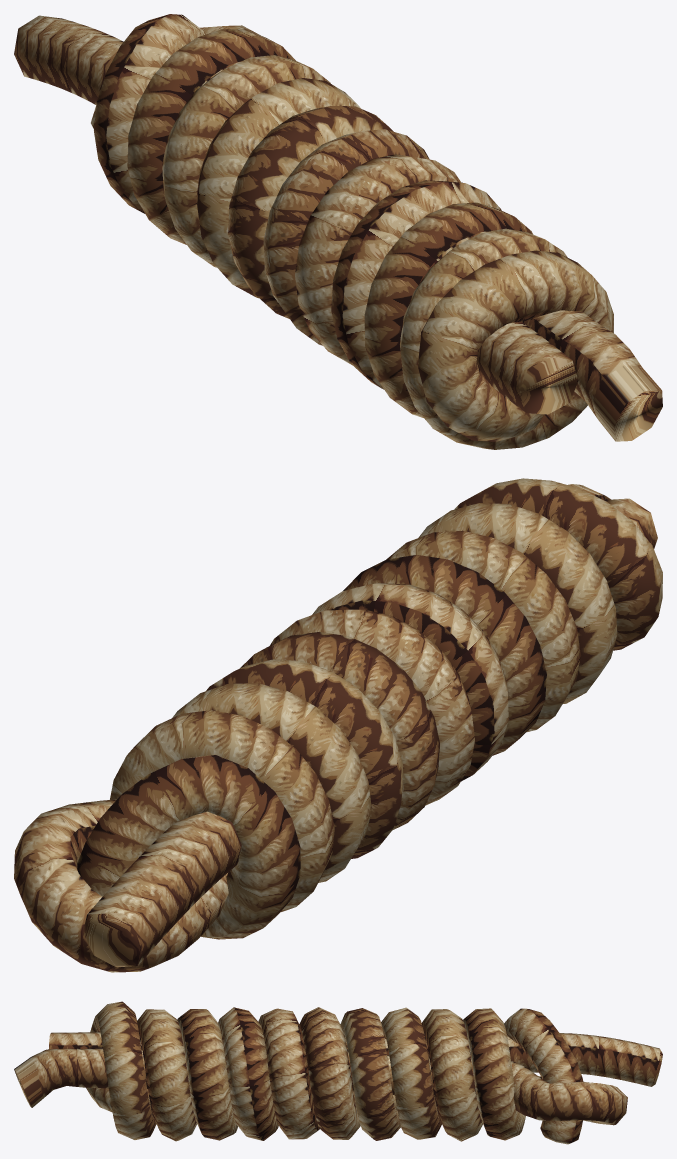
Rendered from rope.fbx.
The picture shows the model from 3 angles, top to bottom: view 1: azimuth 30°, elevation 25°; view 2: azimuth 150°, elevation 25°; view 3: azimuth 270°, elevation 25°; orthographic projection. The views are drawn at different scales.
Parts seen in each view (by area): view 1: knot_hangman_(ABOK366,1119); view 2: knot_hangman_(ABOK366,1119); view 3: knot_hangman_(ABOK366,1119).
Boxes of the visible parts, x1,y1,x2,y2 form: knot_hangman_(ABOK366,1119): [14, 14, 662, 449]; knot_hangman_(ABOK366,1119): [14, 478, 662, 972]; knot_hangman_(ABOK366,1119): [14, 1001, 662, 1144].
Bounding box in the file's own units: 65.57 × 55.22 × 265.
